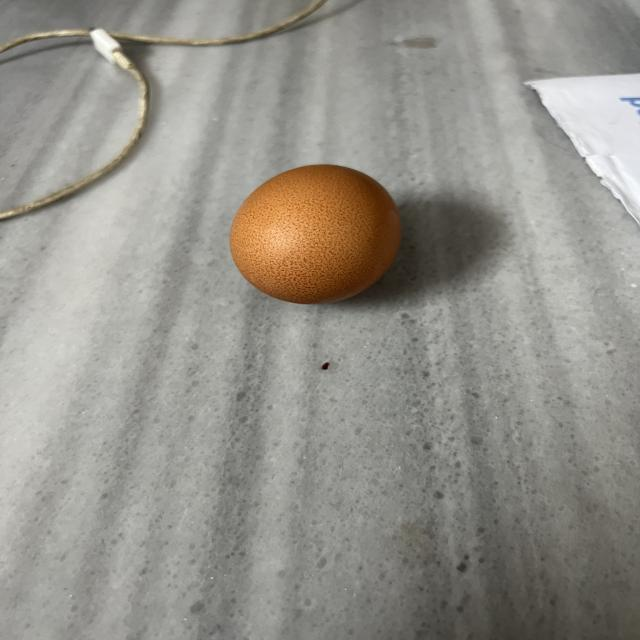egg: (222, 162, 411, 308)
